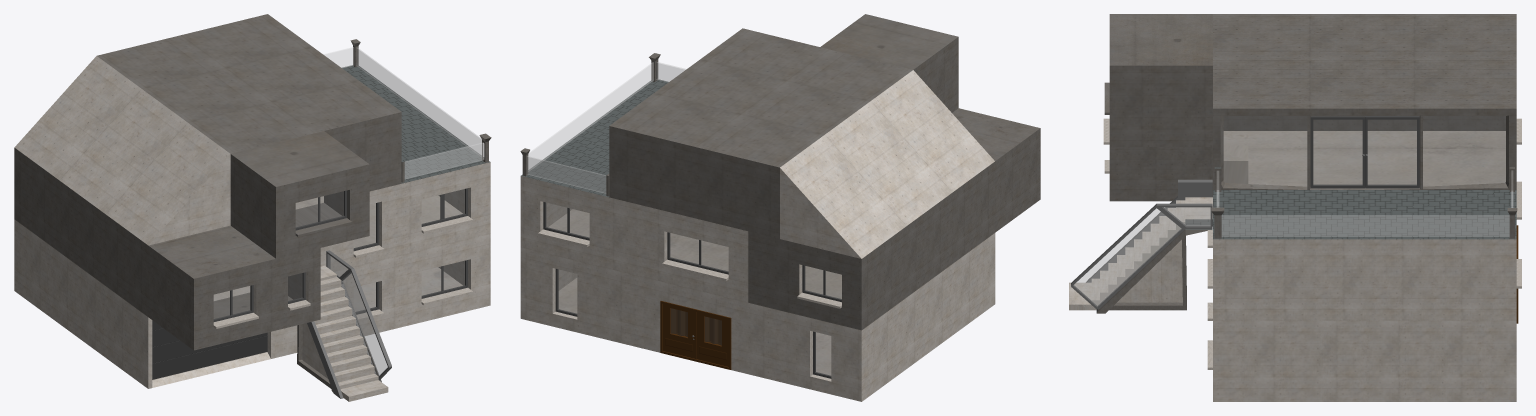
3 renders of one model, left to right at view 1: azimuth 30°, elevation 25°; view 2: azimuth 150°, elevation 25°; view 3: azimuth 270°, elevation 25°, orthographic. The views are drawn at different scales.
Visible parts, largest first — view 1: Partie1; view 2: Partie1; view 3: Partie1.
Boxes of the visible parts, bbox=[...] form: Partie1: bbox=[14, 14, 491, 401]; Partie1: bbox=[520, 14, 1040, 401]; Partie1: bbox=[1069, 14, 1521, 401].
Bounding box in the file's own units: 17.39 × 10.45 × 17.55.
10 materials, 3 textured.
